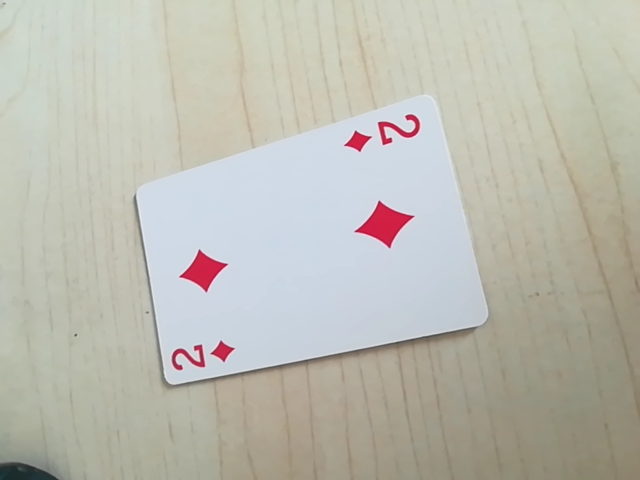fk 2: (343, 108, 429, 160), (168, 334, 240, 381)
